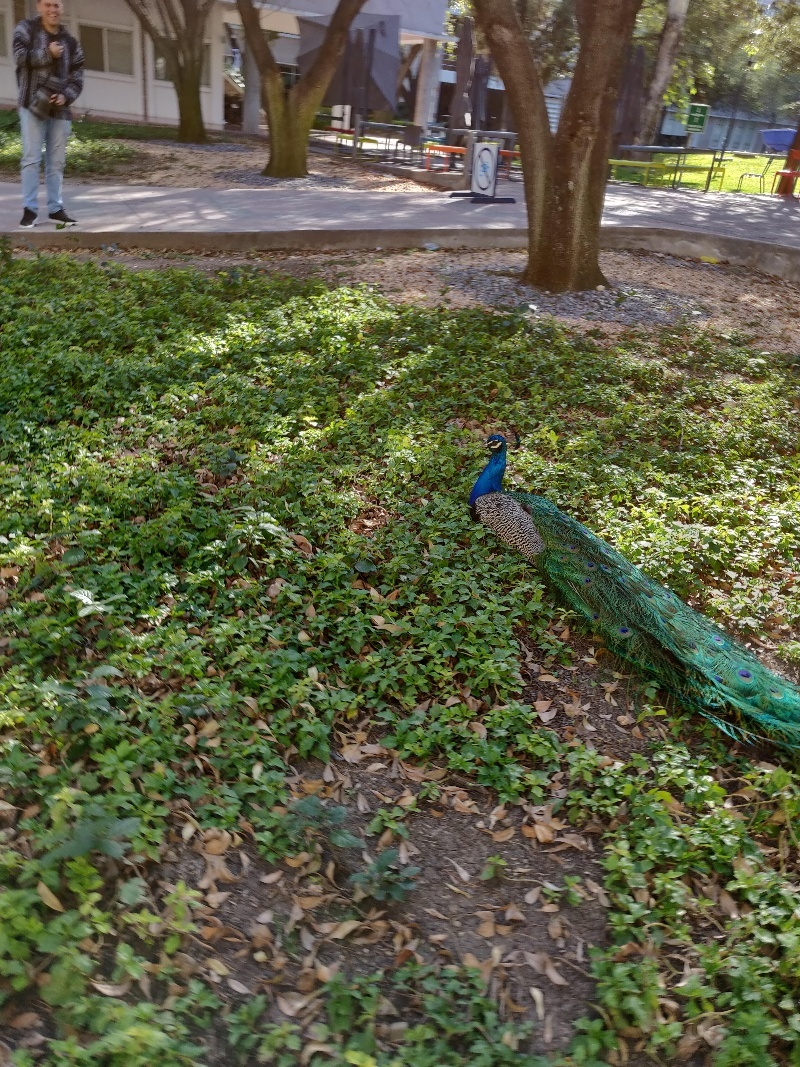pavoreal: (471, 430, 588, 569)
